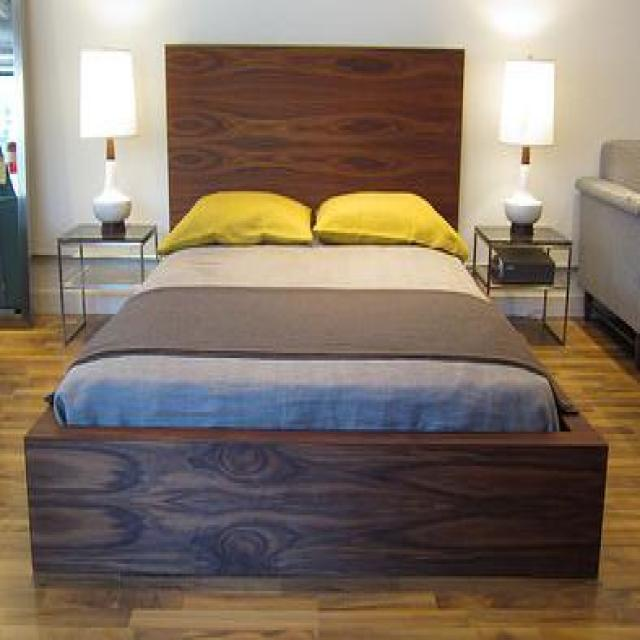bed: (23, 172, 611, 583)
